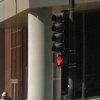Traffic light: (43, 7, 76, 78)
